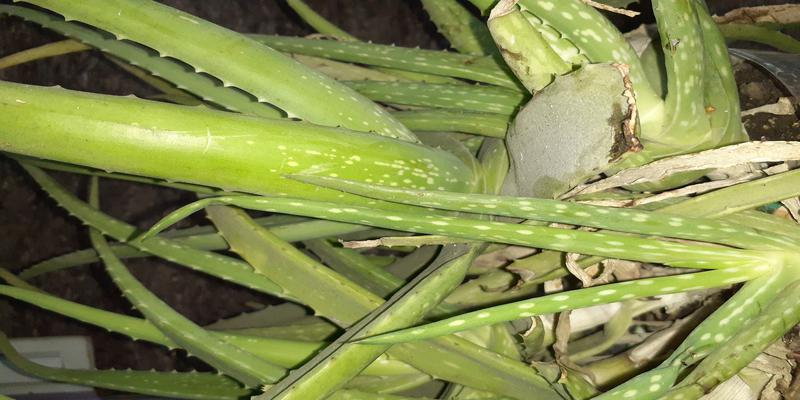Aloevera: (143, 23, 741, 383)
